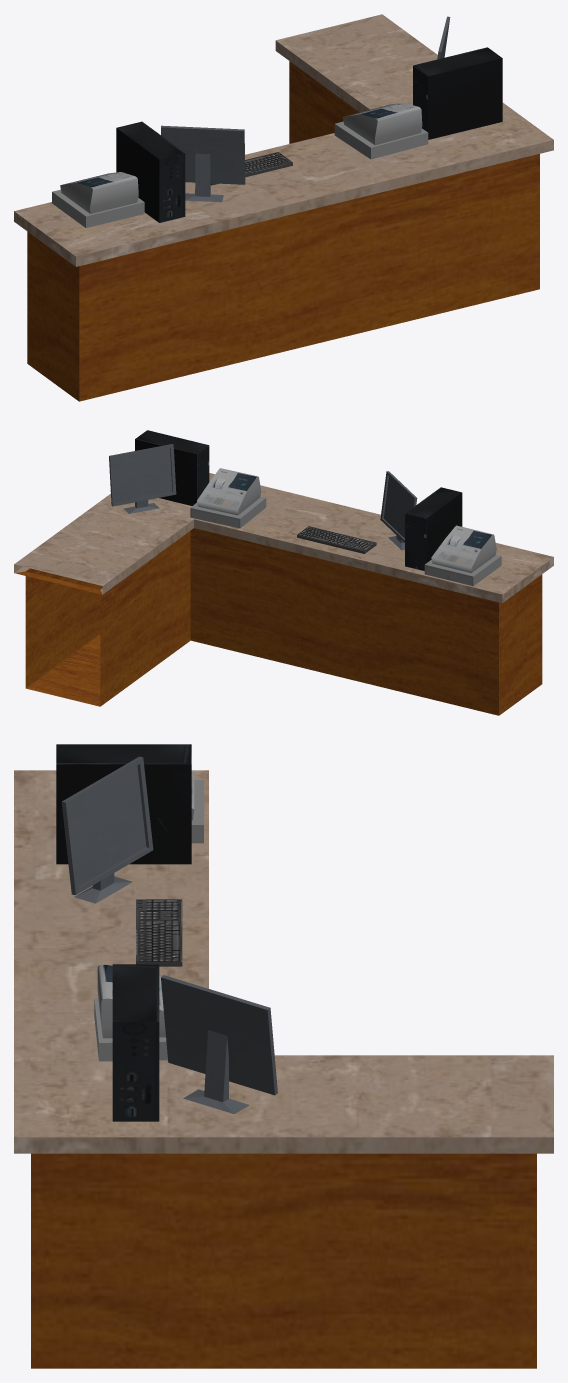
File: desktop.gltf
3 views of the same model, one above another, from view 1: azimuth 30°, elevation 25°; view 2: azimuth 150°, elevation 25°; view 3: azimuth 270°, elevation 25° (orthographic). The views are drawn at different scales.
Visible parts, largest first — view 1: Material_007-material.003, Material-material.001, Material_024-material.001, Material_024-material, Material_001-material.001, Material_023-material.001, Material_023-material, Material_025-material; view 2: Material_007-material.003, Material-material.001, Material_001-material.002, Material_024-material, Material_023-material, Material_023-material.001, Material_024-material.001, Material_001-material.001, Material_025-material; view 3: Material_007-material.003, Material-material.001, Material_001-material.002, Material_024-material, Material_001-material.001, Material_024-material.001, Material_025-material, Material_023-material.001, Material_023-material.
Boxes of the visible parts, box(x1,y1,x2,y2) form: Material_007-material.003: box(27, 61, 539, 401); Material-material.001: box(14, 14, 553, 266); Material_024-material.001: box(413, 47, 502, 139); Material_024-material: box(116, 121, 185, 222); Material_001-material.001: box(161, 125, 245, 202); Material_023-material.001: box(334, 102, 428, 159); Material_023-material: box(52, 172, 144, 227); Material_025-material: box(210, 152, 292, 185); Material_007-material.003: box(14, 528, 542, 715); Material-material.001: box(14, 473, 553, 603); Material_001-material.002: box(109, 444, 176, 513); Material_024-material: box(405, 487, 462, 570); Material_023-material: box(424, 525, 501, 586); Material_023-material.001: box(190, 468, 266, 528); Material_024-material.001: box(135, 430, 209, 505); Material_001-material.001: box(380, 471, 417, 550); Material_025-material: box(297, 526, 376, 553); Material_007-material.003: box(31, 1153, 536, 1368); Material-material.001: box(14, 770, 553, 1153); Material_001-material.002: box(161, 975, 277, 1114); Material_024-material: box(56, 744, 191, 864); Material_001-material.001: box(61, 756, 153, 903); Material_024-material.001: box(112, 964, 159, 1121); Material_025-material: box(136, 899, 182, 966); Material_023-material.001: box(94, 964, 167, 1061); Material_023-material: box(191, 771, 203, 843).
Bounding box in the file's own units: 21.94 × 9.7 × 13.65.
6 materials, 6 textured.
